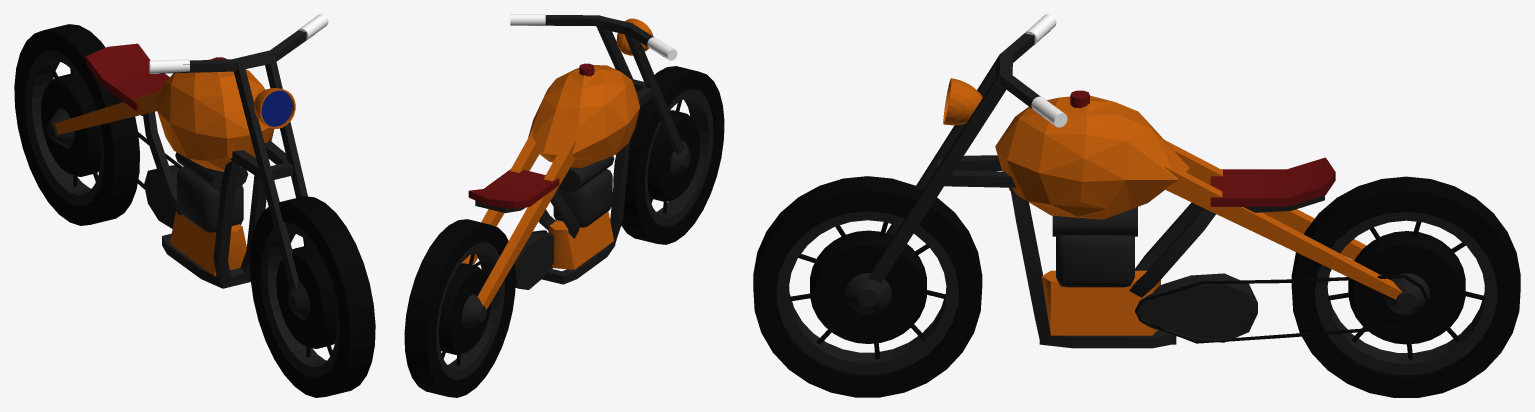
Rendered from bike.obj.
3 renders of one model, left to right at view 1: azimuth 30°, elevation 25°; view 2: azimuth 150°, elevation 25°; view 3: azimuth 270°, elevation 25°, orthographic. The views are drawn at different scales.
Visible parts, largest first — view 1: Tube004; view 2: Tube004; view 3: Tube004.
Part boxes in pixels (x1,y1,x2,y2): Tube004: (14,14,375,397); Tube004: (404,14,724,397); Tube004: (753,14,1520,397).
Size of the model in its own units: 15.76 by 23.7 by 49.97.
